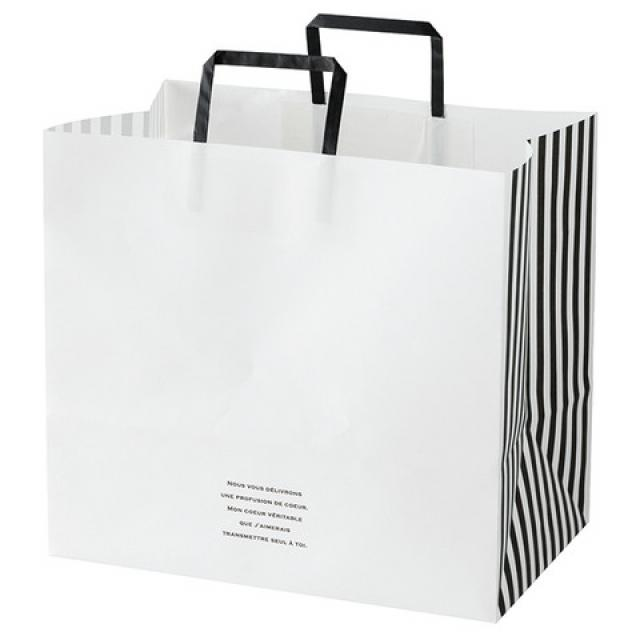paper bag: (35, 11, 601, 627)
